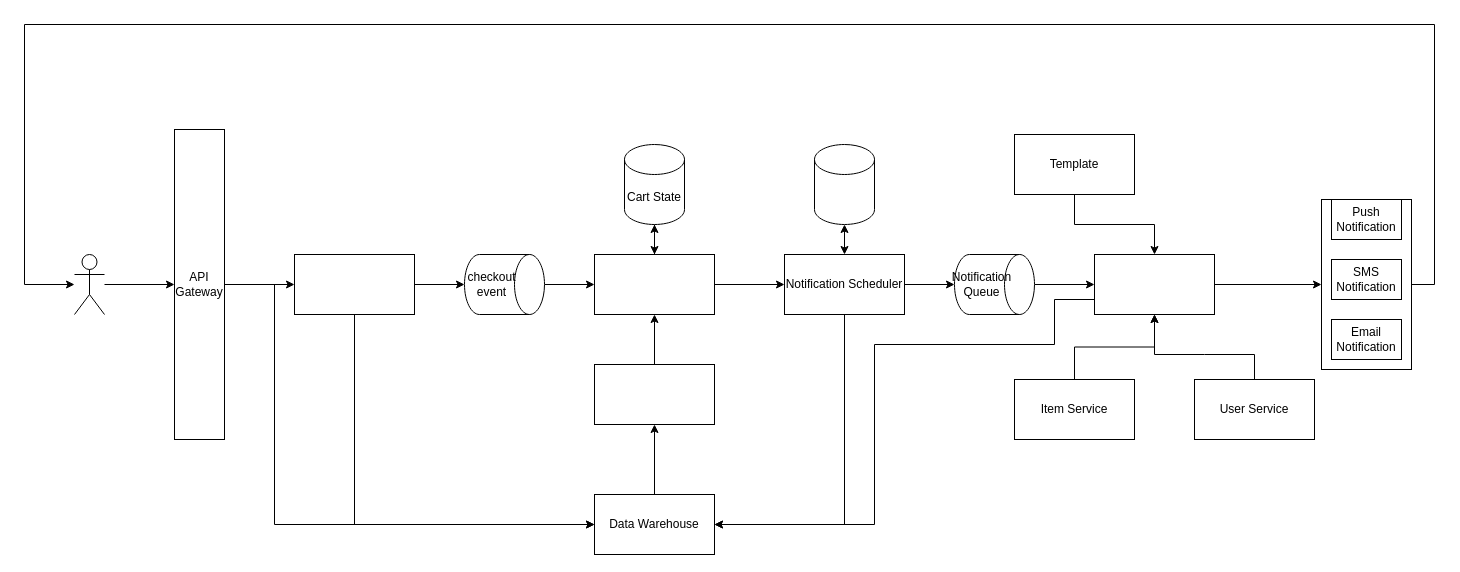
This 1460x572 diagram has some shape labels left out. The shapes that lost their labels are listed below. From the top down, each one's centre as x and y in pixels, then its label:
At (844,184): "Schedules".
At (89,284): "User".
At (354,284): "Checkout Service".
At (654,284): "Cart Recovery System".
At (1154,284): "Notification Service".
At (654,394): "Experimentation Platform".
